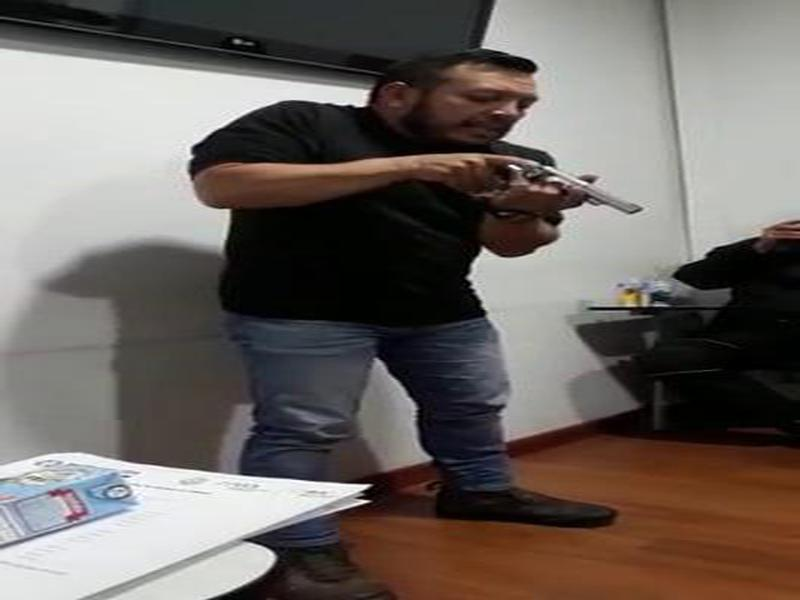Revolver: (475, 142, 639, 257)
